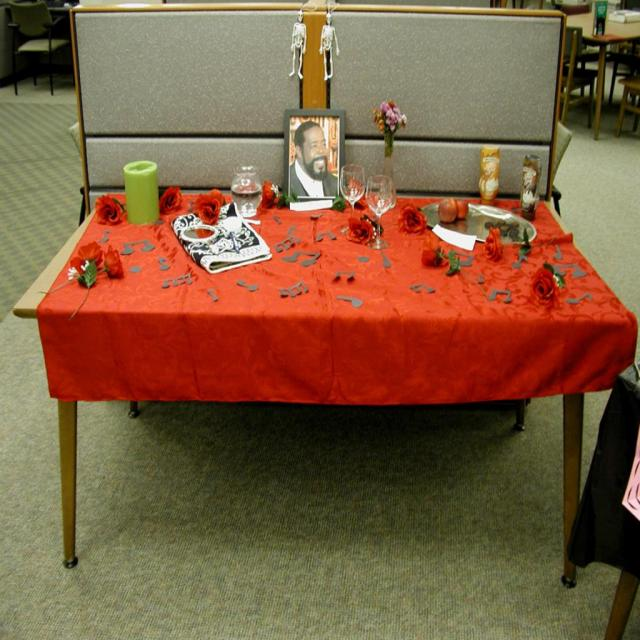table: (11, 192, 637, 589)
